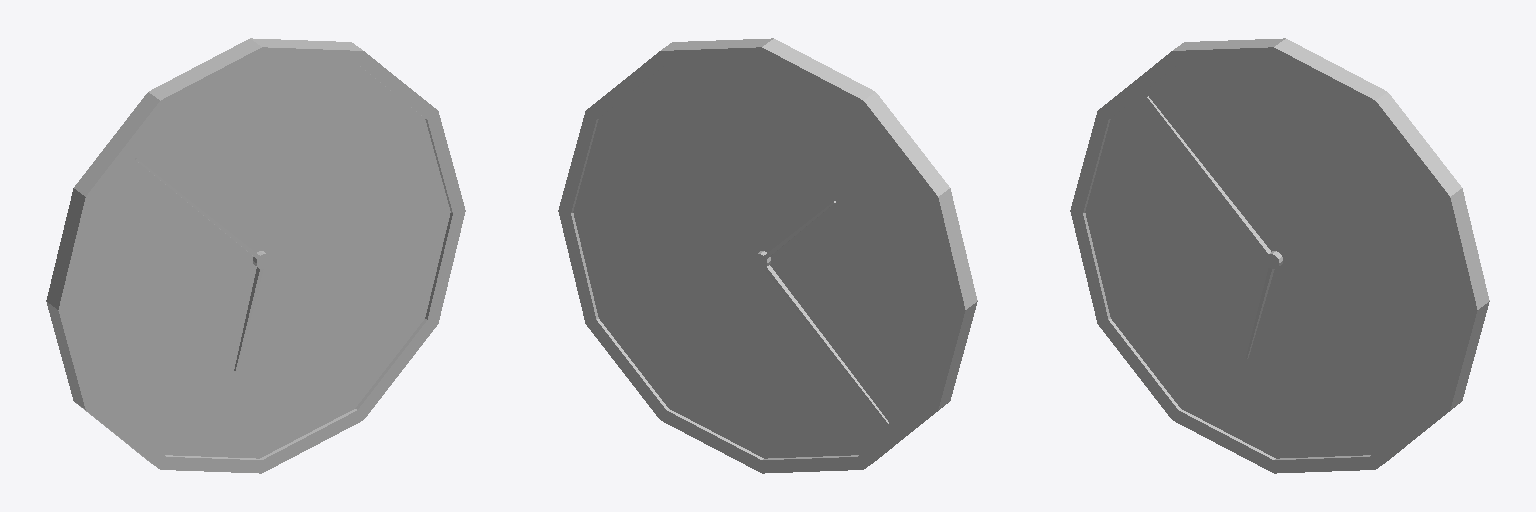
The model's file is Clock.obj.
3 views of the same model, side by side, from view 1: azimuth 30°, elevation 25°; view 2: azimuth 150°, elevation 25°; view 3: azimuth 330°, elevation 25° (orthographic).
Visible parts, largest first — view 1: Clock; view 2: Clock; view 3: Clock.
Boxes of the visible parts, x1,y1,x2,y2 form: Clock: [46, 38, 465, 473]; Clock: [558, 38, 977, 473]; Clock: [1070, 38, 1489, 473].
Size of the model in its own units: 51.96 by 51.96 by 3.45.